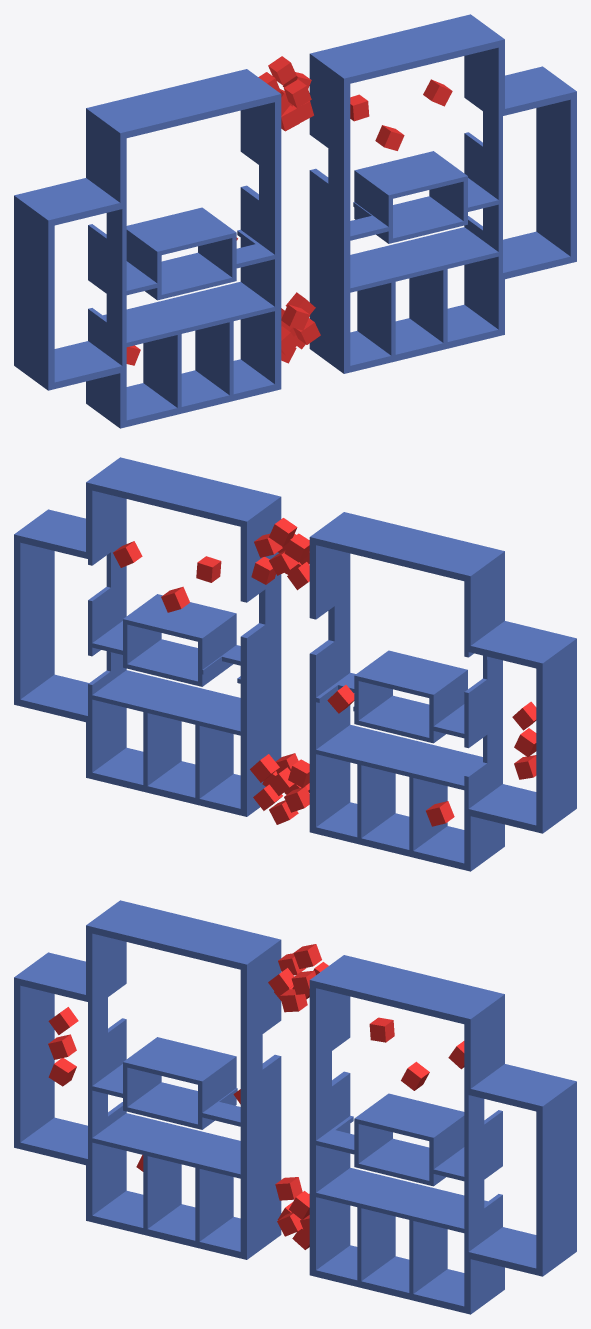
File: world.obj
3 views of the same model, one above another, from view 1: azimuth 30°, elevation 25°; view 2: azimuth 150°, elevation 25°; view 3: azimuth 330°, elevation 25° (orthographic).
Visible parts, largest first — view 1: Cube.015, Cube.014; view 2: Cube.015, Cube.031; view 3: Cube.015, Cube.031, Cube.035.
Boxes of the visible parts, left/top/right/bottom form: Cube.015: left=14, top=14, right=576, bottom=428; Cube.014: left=284, top=79, right=311, bottom=108; Cube.015: left=14, top=457, right=576, bottom=871; Cube.031: left=196, top=556, right=221, bottom=582; Cube.015: left=14, top=900, right=576, bottom=1314; Cube.031: left=369, top=1017, right=394, bottom=1042; Cube.035: left=48, top=1058, right=76, bottom=1086.
Size of the model in its own units: 24.97 by 13.56 by 2.8.
